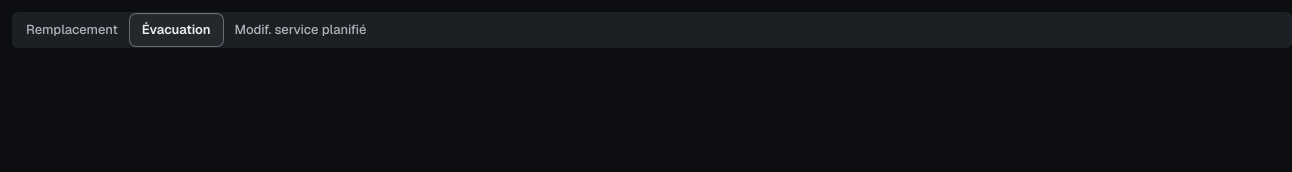
Scenario: Segmented › name : valeur dans le champ caché, change émis au choix de l'agent seulement
Later steps or results of the test are not shown.
Click the radio button labelled "Modif. service planifié": (300, 30) [222, 14, 378, 46]
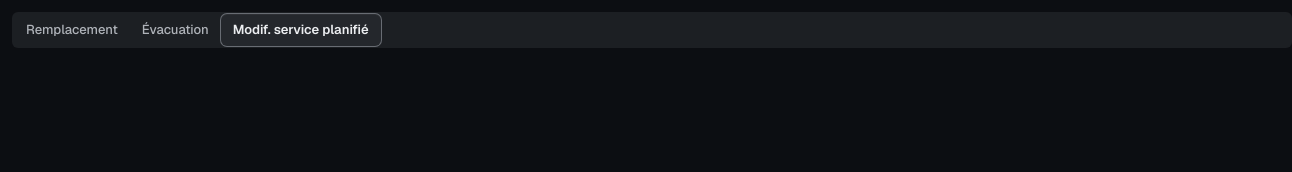
Result: the radio button labelled "Modif. service planifié" is checked at [221, 14, 381, 46]
